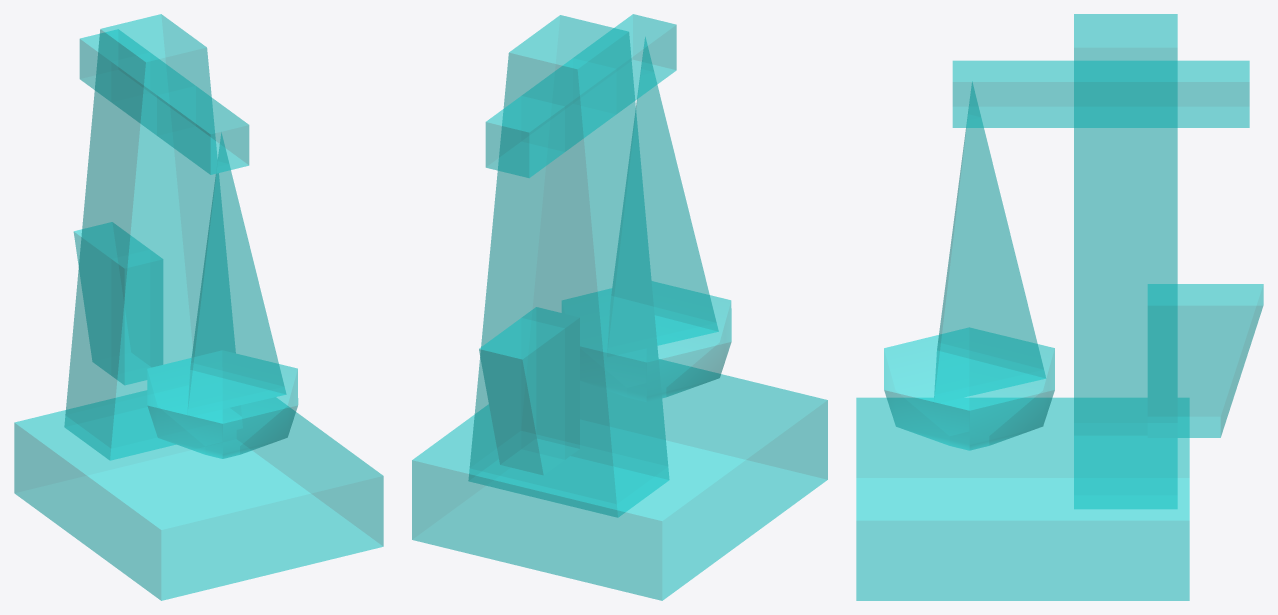
Rendered from SM_Prop_Brazier_02_Collision_01.fbx.
The picture shows the model from 3 angles, left to right: view 1: azimuth 30°, elevation 25°; view 2: azimuth 150°, elevation 25°; view 3: azimuth 270°, elevation 25°; orthographic projection. The views are drawn at different scales.
Parts seen in each view (by area): view 1: SM_Prop_Brazier_02_Collision_01; view 2: SM_Prop_Brazier_02_Collision_01; view 3: SM_Prop_Brazier_02_Collision_01.
Part boxes in pixels (box(x1,y1,x2,y2)): SM_Prop_Brazier_02_Collision_01: box(14, 14, 383, 600); SM_Prop_Brazier_02_Collision_01: box(412, 14, 827, 600); SM_Prop_Brazier_02_Collision_01: box(856, 14, 1263, 600).
Bounding box in the file's own units: 190 × 366 × 265.
